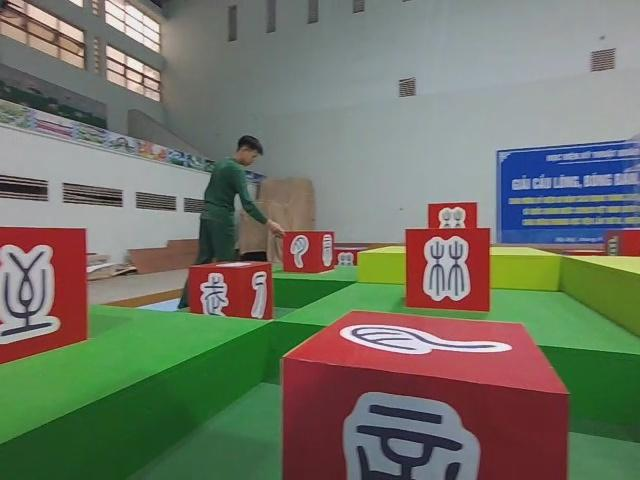R2 Fake: (279, 305, 570, 480), (0, 225, 89, 367), (403, 226, 493, 315), (187, 259, 273, 324), (279, 228, 337, 275)
